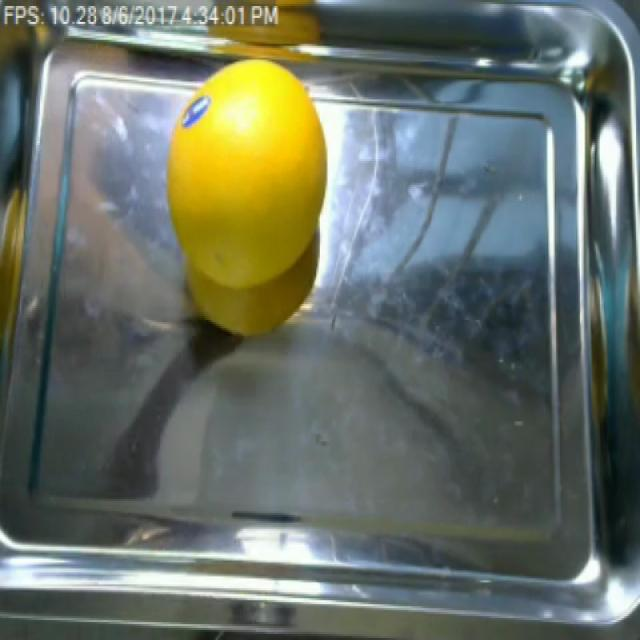Fruit: (154, 52, 334, 348)
